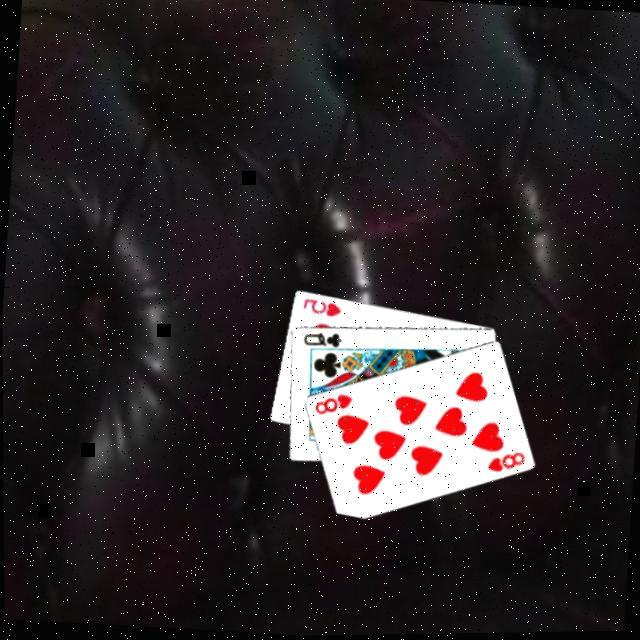5H: (300, 294, 345, 320)
8H: (312, 388, 356, 419), (484, 446, 528, 476)
QC: (300, 327, 346, 350)
